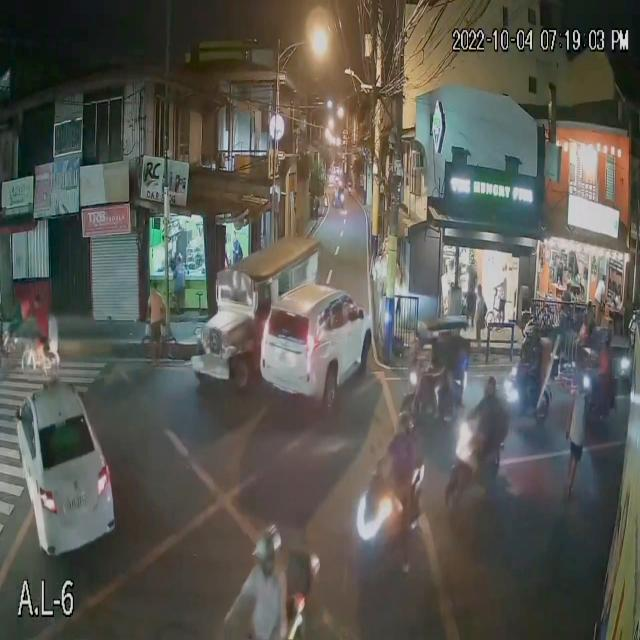Full-Faced: (400, 394, 422, 440), (523, 316, 536, 344), (484, 375, 499, 399)
Half-Faced: (254, 524, 285, 577)
